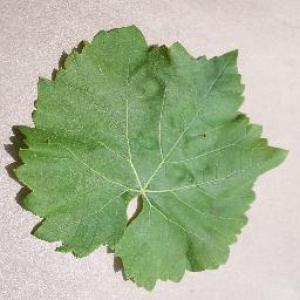Folha: (10, 23, 290, 290)
